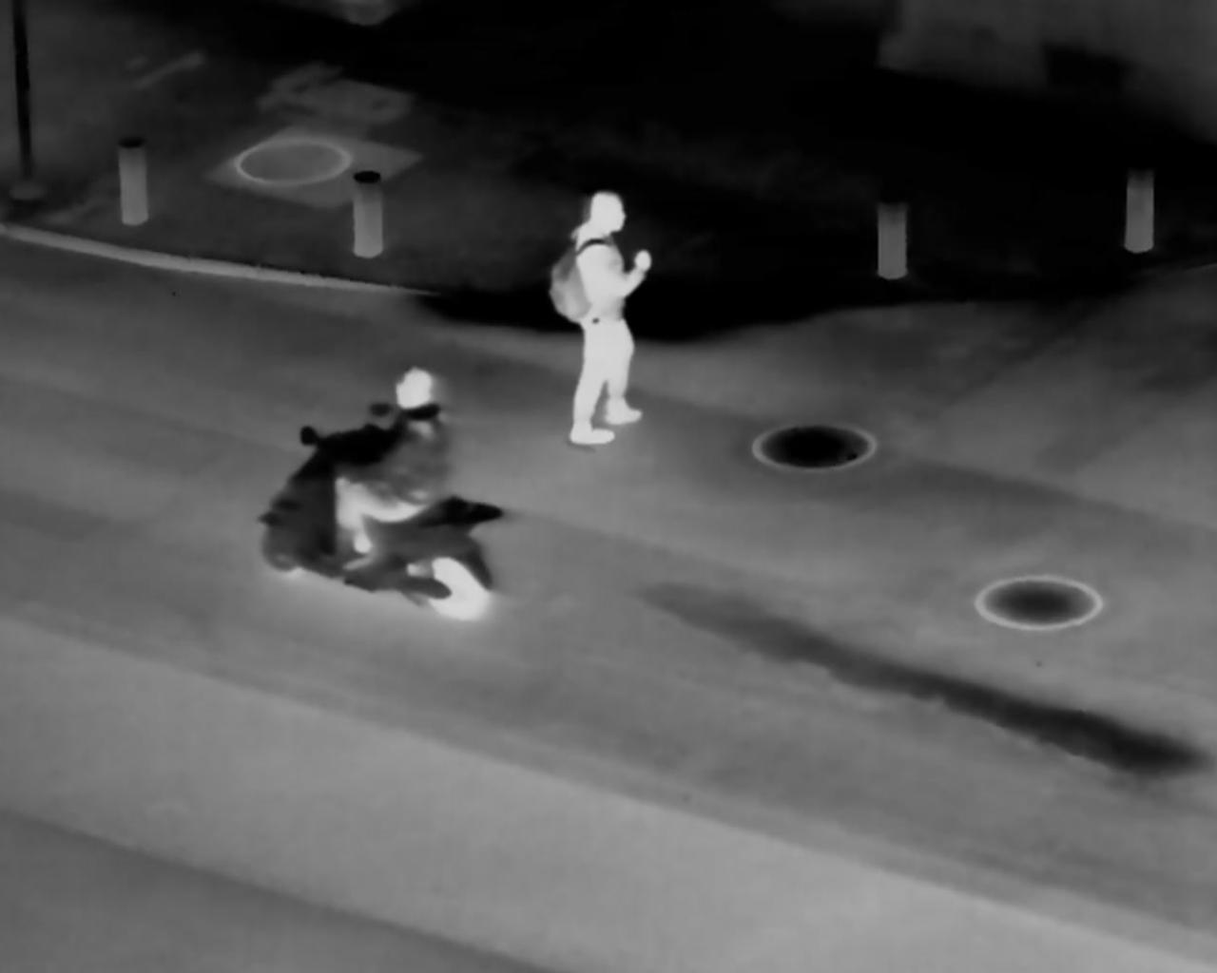person: (539, 172, 662, 454), (330, 355, 461, 578)
